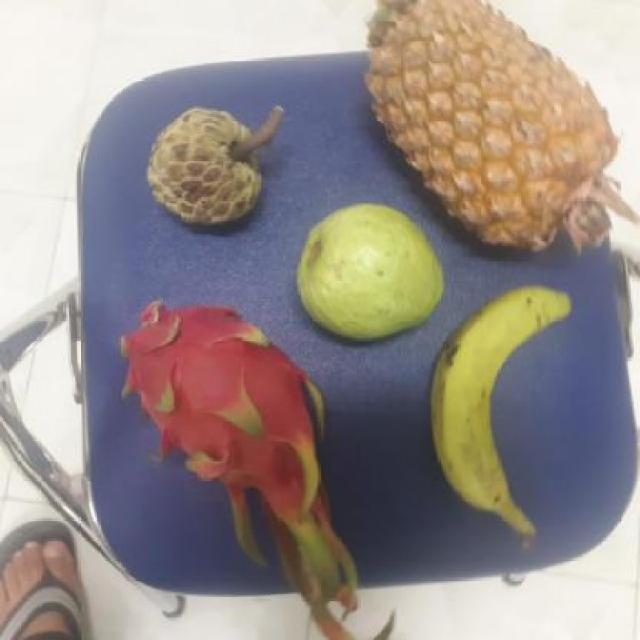banana: (423, 290, 568, 525)
dragon fruit: (108, 301, 330, 525)
guava: (289, 203, 443, 339)
sugar apple: (141, 108, 268, 229)
